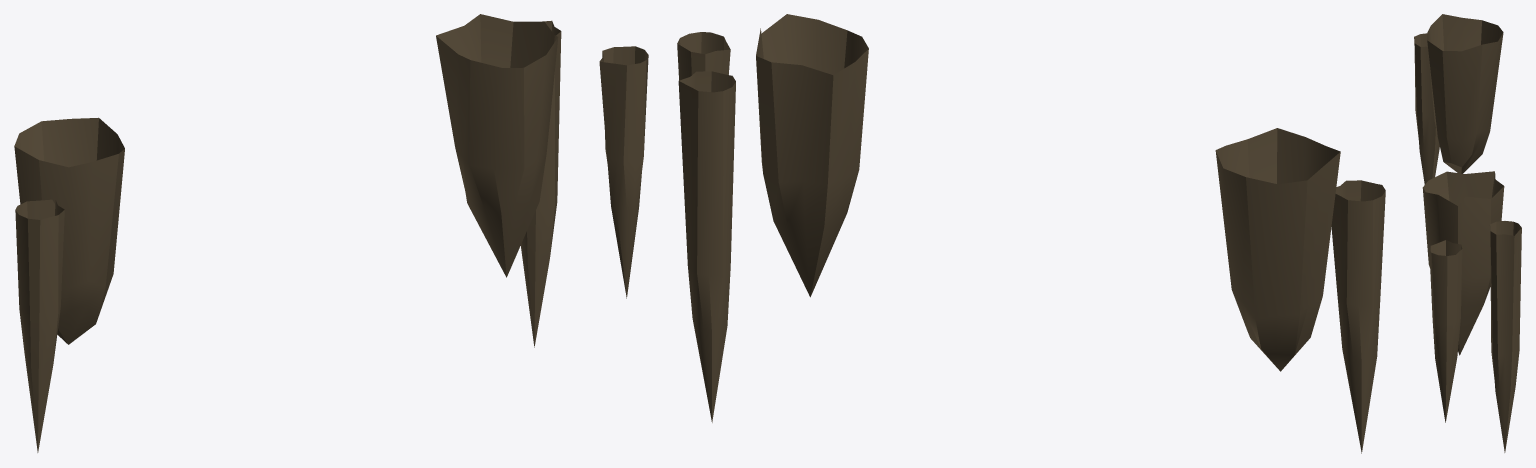
File: stalagtite_1.fbx
3 views of the same model, side by side, from view 1: azimuth 30°, elevation 25°; view 2: azimuth 150°, elevation 25°; view 3: azimuth 270°, elevation 25° (orthographic). The views are drawn at different scales.
Parts seen in each view (by area): view 1: stalactite_1; view 2: stalactite_1; view 3: stalactite_1.
Boxes of the visible parts, x1,y1,x2,y2 form: stalactite_1: (14,14,648,452); stalactite_1: (677,14,1385,453); stalactite_1: (1414,14,1521,452).
Bounding box in the file's own units: 0.0372 × 0.0196 × 0.0076.
